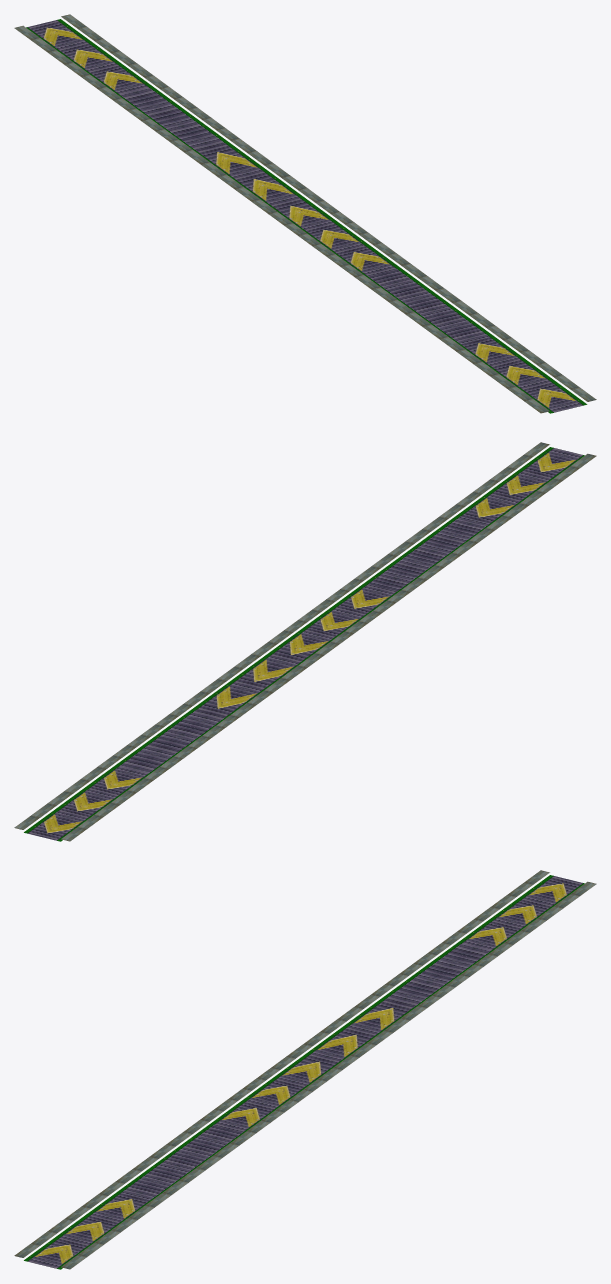
File: Bullet Station 44.fbx
3 views of the same model, one above another, from view 1: azimuth 30°, elevation 25°; view 2: azimuth 150°, elevation 25°; view 3: azimuth 330°, elevation 25° (orthographic).
Parts seen in each view (by area): view 1: STG08_ONS_06; view 2: STG08_ONS_06; view 3: STG08_ONS_06.
Boxes of the visible parts, x1,y1,x2,y2 form: STG08_ONS_06: (14,14,596,413); STG08_ONS_06: (14,442,596,841); STG08_ONS_06: (14,870,596,1269).
Size of the model in its own units: 24027 by 1000 by 390002.
